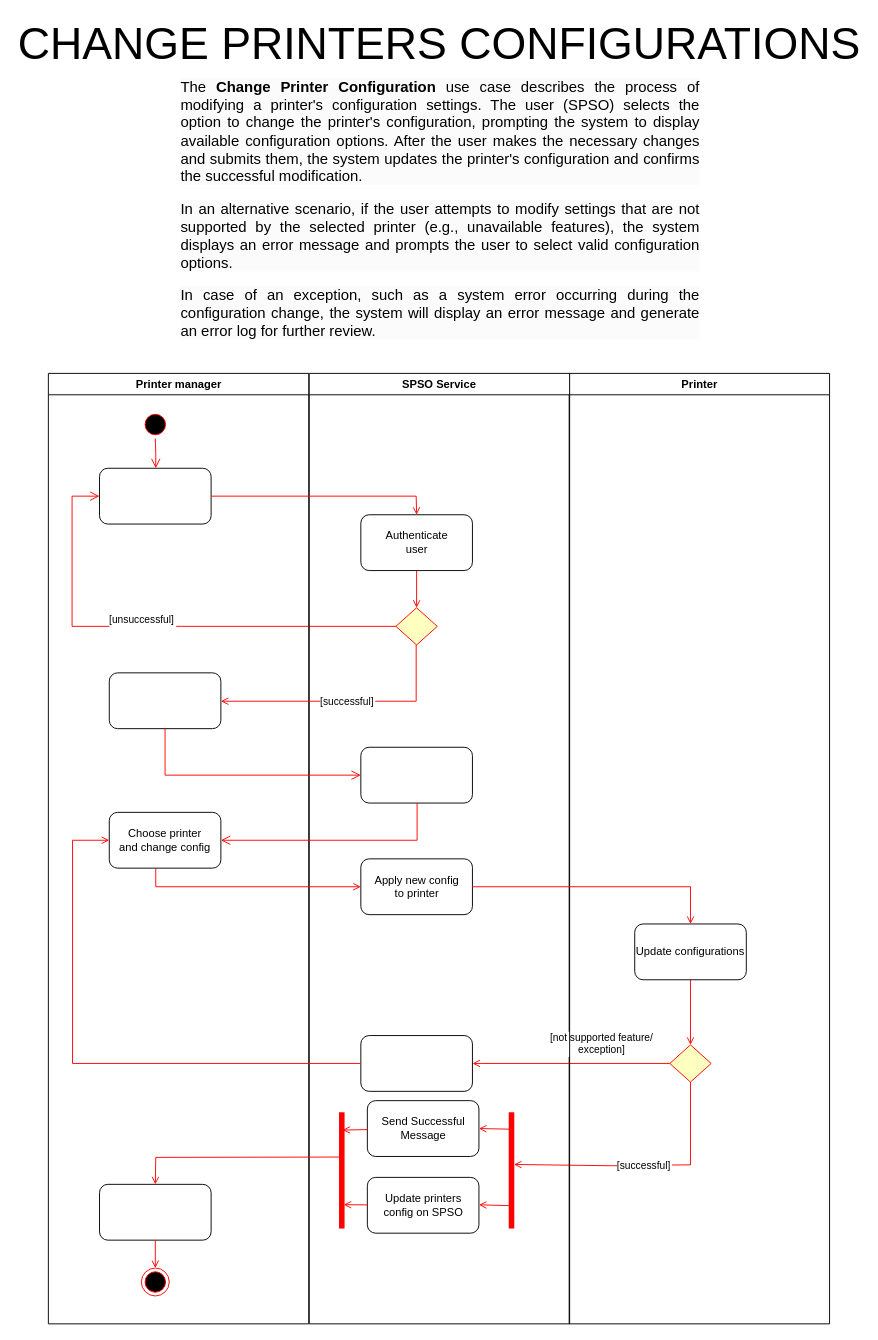
This 878x1340 diagram has some shape labels left out. The centre of each missing label's shape, as x and y in pixels:
"Change printer configurartions" belongs at [164,700].
"Log in to the SPSO service" belongs at [155,495].
"Show error Message" belongs at [416,1063].
"Show list of available printers" belongs at [416,774].
"Show successful messgae" belongs at [155,1211].
